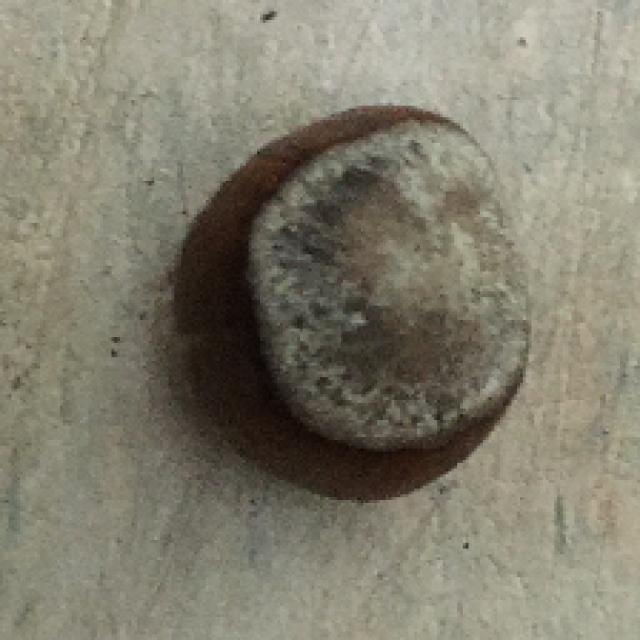qualityHazelnut: (150, 100, 539, 497)
